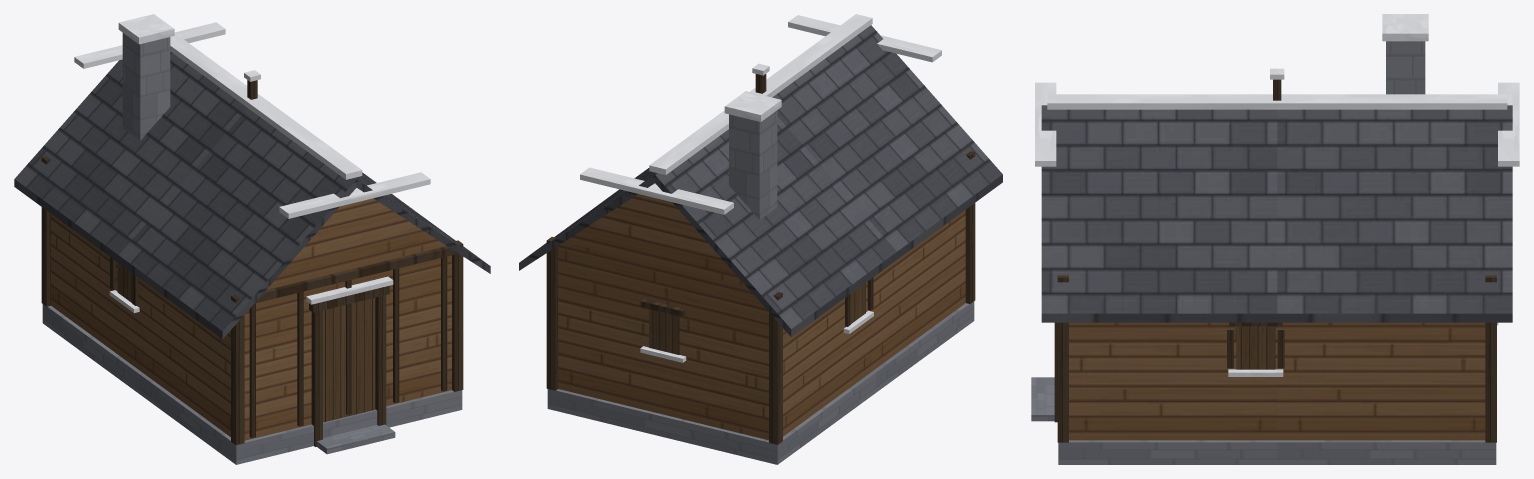
Rendered from ae_snow_wood_medium_block_lod0.glb.
The picture shows the model from 3 angles, left to right: view 1: azimuth 30°, elevation 25°; view 2: azimuth 150°, elevation 25°; view 3: azimuth 270°, elevation 25°; orthographic projection. The views are drawn at different scales.
Parts seen in each view (by area): view 1: ae_snow_wood_medium_block_lod0; view 2: ae_snow_wood_medium_block_lod0; view 3: ae_snow_wood_medium_block_lod0.
Part boxes in pixels (<box>): ae_snow_wood_medium_block_lod0: <box>14,14,490,464</box>; ae_snow_wood_medium_block_lod0: <box>519,14,1002,464</box>; ae_snow_wood_medium_block_lod0: <box>1031,14,1519,464</box>.
Bounding box in the file's own units: 4.9 × 5.44 × 6.84.
Materials: 1 (1 with a texture image).
